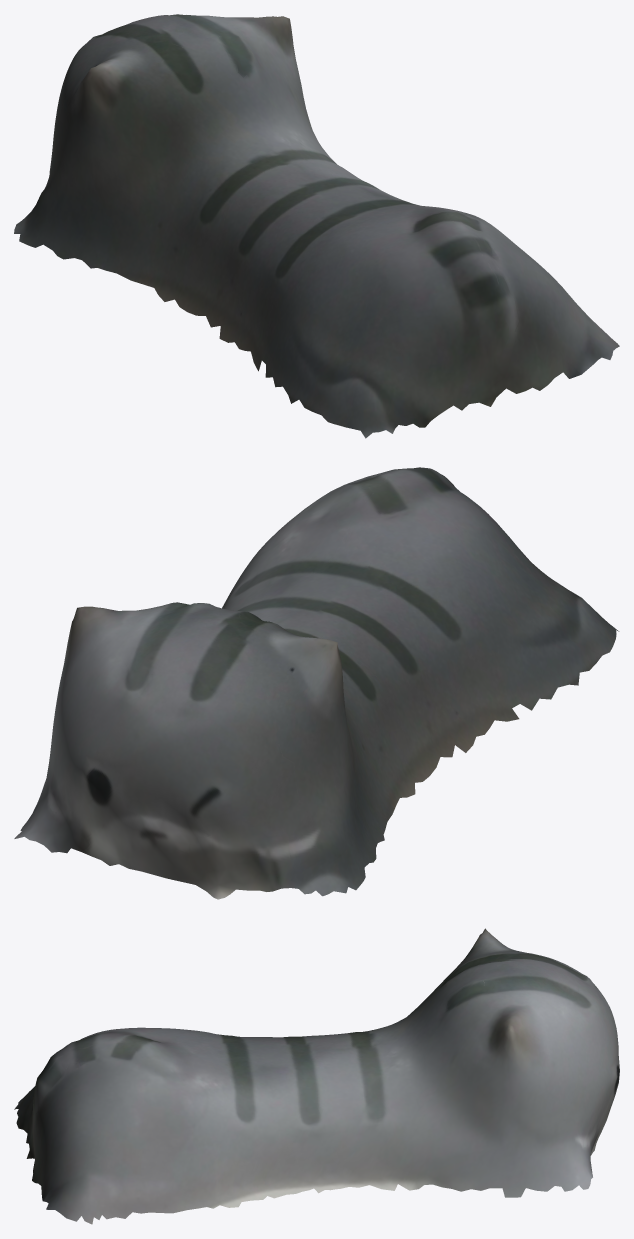
The model's file is meu-arquivo.glb.
The picture shows the model from 3 angles, top to bottom: view 1: azimuth 30°, elevation 25°; view 2: azimuth 150°, elevation 25°; view 3: azimuth 270°, elevation 25°; orthographic projection. The views are drawn at different scales.
Parts seen in each view (by area): view 1: produto; view 2: produto; view 3: produto.
Part boxes in pixels (left/top/right/bottom): produto: left=14, top=14, right=619, bottom=438; produto: left=14, top=467, right=619, bottom=899; produto: left=14, top=928, right=619, bottom=1224.
Bounding box in the file's own units: 0.1767 × 0.095 × 0.3.
Materials: 1 (1 with a texture image).
